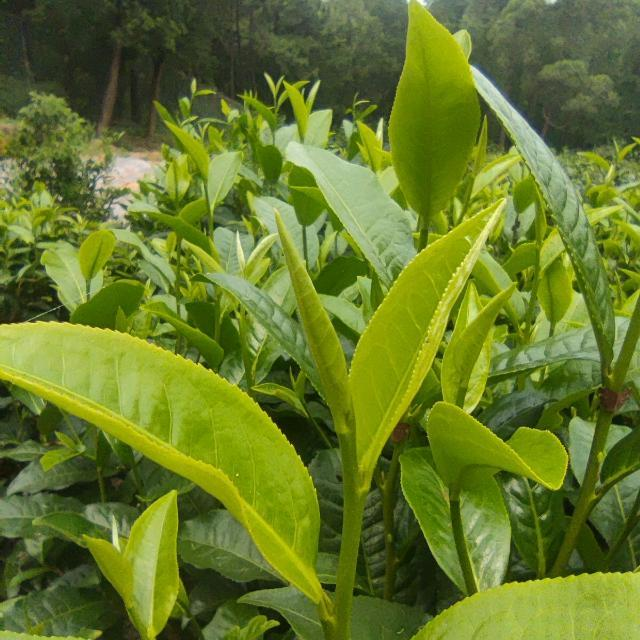Stem: (345, 486, 367, 511), (604, 379, 621, 397), (450, 492, 459, 507), (208, 210, 214, 216), (272, 130, 275, 133)
